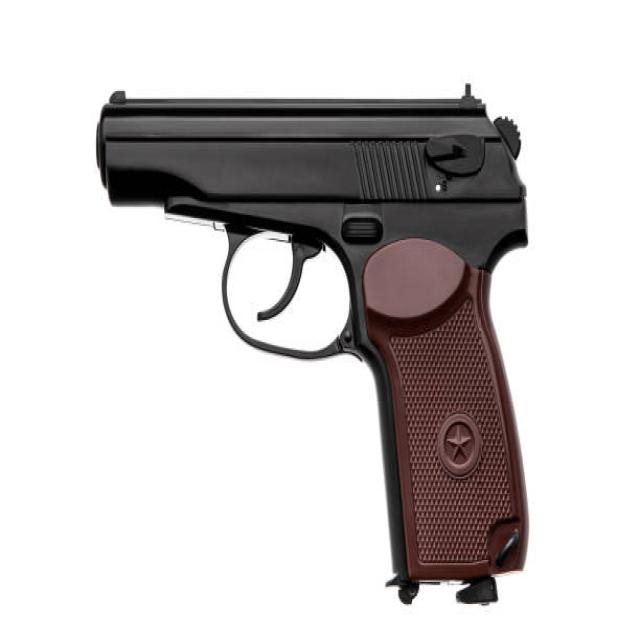pistol: (95, 75, 533, 622)
